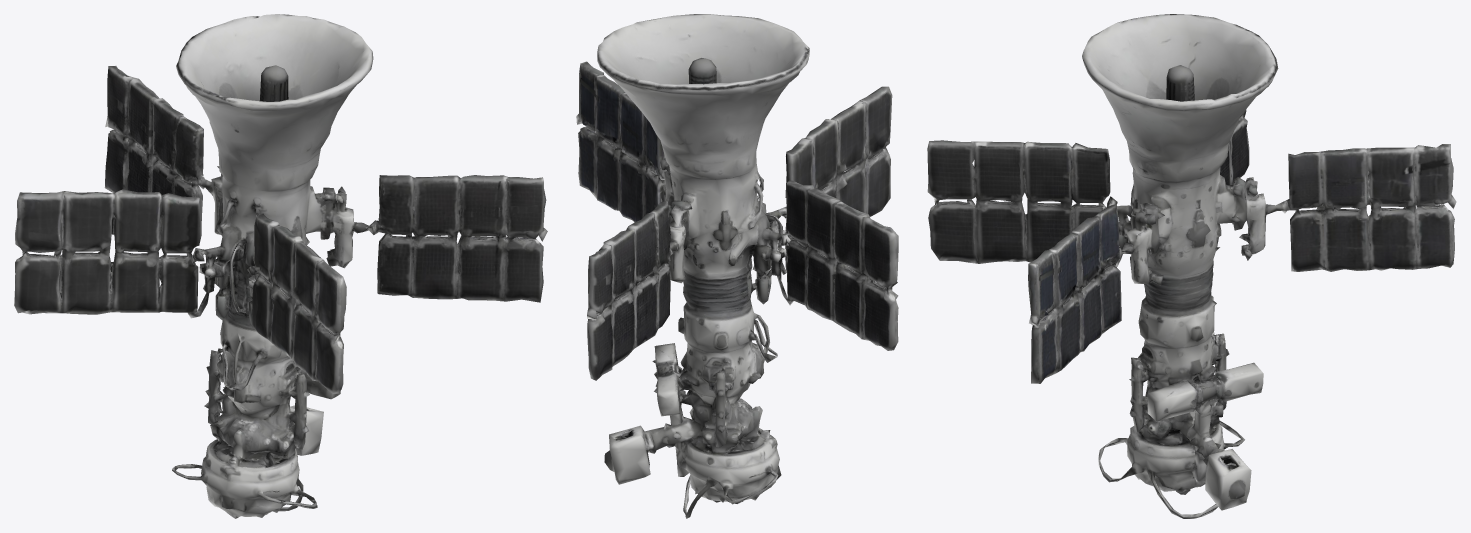
Rendered from asset.glb.
3 renders of one model, left to right at view 1: azimuth 30°, elevation 25°; view 2: azimuth 150°, elevation 25°; view 3: azimuth 270°, elevation 25°, orthographic.
Visible parts, largest first — view 1: Mesh1.0; view 2: Mesh1.0; view 3: Mesh1.0.
Boxes of the visible parts, x1,y1,x2,y2 form: Mesh1.0: (14,14,547,518); Mesh1.0: (576,14,898,518); Mesh1.0: (927,14,1456,518).
Bounding box in the file's own units: 1.86 × 1.92 × 2.01.
1 material, 1 textured.
